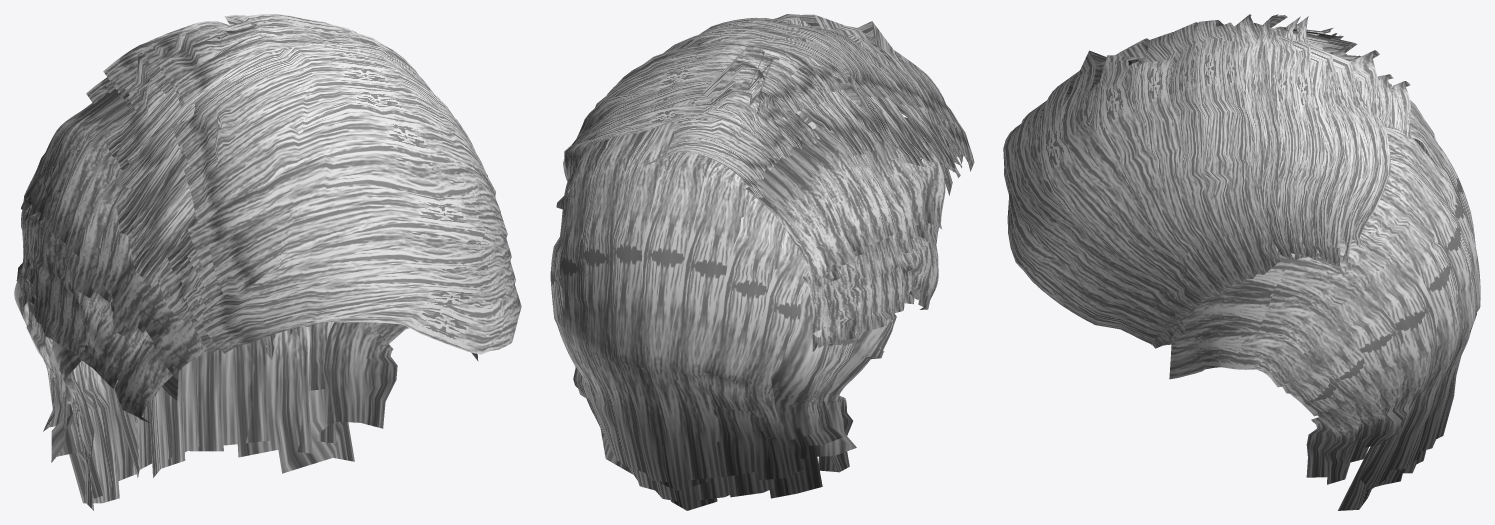
File: daz_hair_pixie_chic.glb
3 renders of one model, left to right at view 1: azimuth 30°, elevation 25°; view 2: azimuth 150°, elevation 25°; view 3: azimuth 270°, elevation 25°, orthographic. The views are drawn at different scales.
Parts seen in each view (by area): view 1: daz_hair_pixie_chic; view 2: daz_hair_pixie_chic; view 3: daz_hair_pixie_chic.
Part boxes in pixels (left/top/right/bottom): daz_hair_pixie_chic: left=14, top=14, right=521, bottom=510; daz_hair_pixie_chic: left=550, top=14, right=974, bottom=510; daz_hair_pixie_chic: left=1003, top=14, right=1480, bottom=510.
Size of the model in its own units: 0.1714 by 0.2137 by 0.2142.
Materials: 1 (1 with a texture image).
